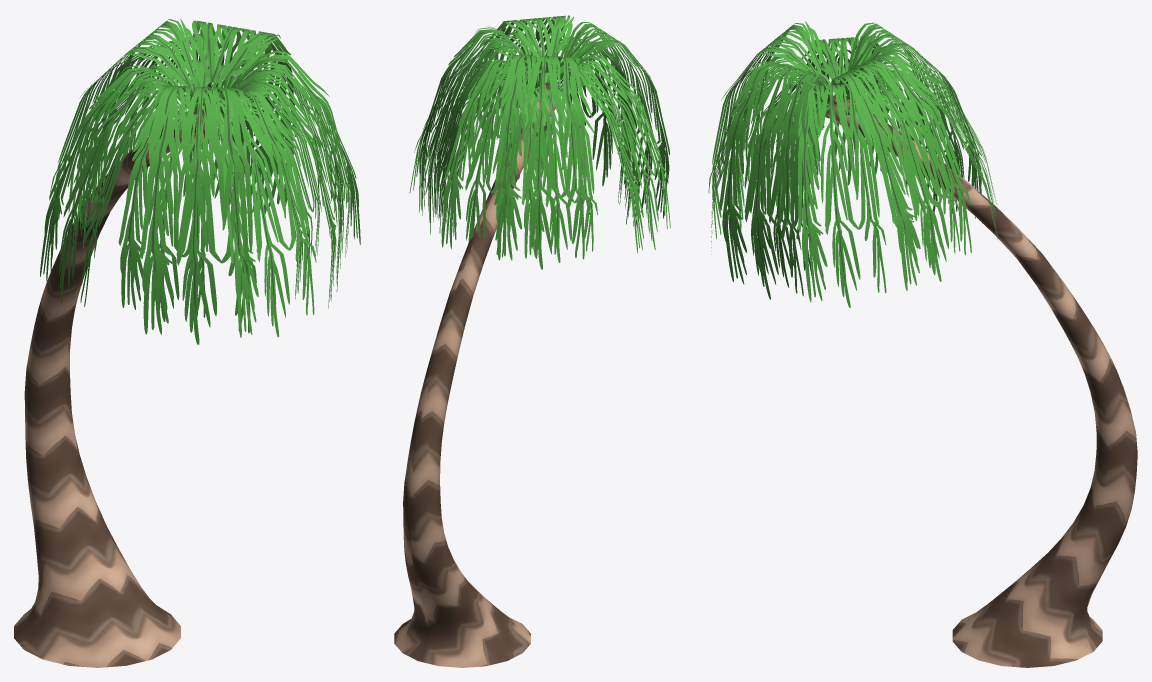
Rendered from Tree3Model.fbx.
3 views of the same model, side by side, from view 1: azimuth 30°, elevation 25°; view 2: azimuth 150°, elevation 25°; view 3: azimuth 270°, elevation 25° (orthographic). The views are drawn at different scales.
Visible parts, largest first — view 1: Tree_LargeCurve, Plane049, Plane053, Plane056, Plane050, Plane045, Plane052, Plane051, Plane046, Plane054, Plane055, Plane048 (+1 smaller); view 2: Tree_LargeCurve, Plane052, Plane055, Plane056, Plane051, Plane048, Plane049, Plane050, Plane053, Plane054, Plane047, Plane045 (+1 smaller); view 3: Tree_LargeCurve, Plane050, Plane051, Plane054, Plane049, Plane047, Plane052, Plane046, Plane055, Plane056, Plane053, Plane045 (+1 smaller).
Boxes of the visible parts, x1=… form: Tree_LargeCurve: x1=14, y1=108, x2=206, y2=667; Plane049: x1=139, y1=85, x2=259, y2=344; Plane053: x1=195, y1=89, x2=316, y2=337; Plane056: x1=40, y1=63, x2=186, y2=306; Plane050: x1=231, y1=50, x2=351, y2=308; Plane045: x1=118, y1=107, x2=218, y2=321; Plane052: x1=50, y1=19, x2=196, y2=242; Plane051: x1=192, y1=20, x2=295, y2=206; Plane046: x1=221, y1=87, x2=321, y2=298; Plane054: x1=223, y1=47, x2=360, y2=244; Plane055: x1=87, y1=33, x2=218, y2=188; Plane048: x1=72, y1=62, x2=187, y2=256; Tree_LargeCurve: x1=394, y1=82, x2=558, y2=667; Plane052: x1=494, y1=54, x2=592, y2=269; Plane055: x1=441, y1=58, x2=541, y2=257; Plane056: x1=557, y1=54, x2=670, y2=253; Plane051: x1=419, y1=25, x2=531, y2=236; Plane048: x1=521, y1=88, x2=597, y2=262; Plane049: x1=562, y1=22, x2=669, y2=218; Plane050: x1=461, y1=15, x2=573, y2=179; Plane053: x1=546, y1=32, x2=636, y2=186; Plane054: x1=409, y1=30, x2=534, y2=194; Plane047: x1=435, y1=66, x2=509, y2=236; Plane045: x1=558, y1=64, x2=639, y2=226; Tree_LargeCurve: x1=826, y1=95, x2=1137, y2=667; Plane050: x1=719, y1=61, x2=825, y2=299; Plane051: x1=831, y1=52, x2=971, y2=290; Plane054: x1=798, y1=84, x2=886, y2=307; Plane049: x1=708, y1=21, x2=822, y2=239; Plane047: x1=845, y1=88, x2=960, y2=281; Plane052: x1=848, y1=22, x2=982, y2=223; Plane046: x1=750, y1=93, x2=838, y2=287; Plane055: x1=863, y1=48, x2=998, y2=239; Plane056: x1=802, y1=35, x2=889, y2=185; Plane053: x1=711, y1=52, x2=821, y2=251; Plane045: x1=759, y1=59, x2=846, y2=225.
Size of the model in its own units: 413 by 924 by 612.
Materials: 2 (2 with a texture image).
